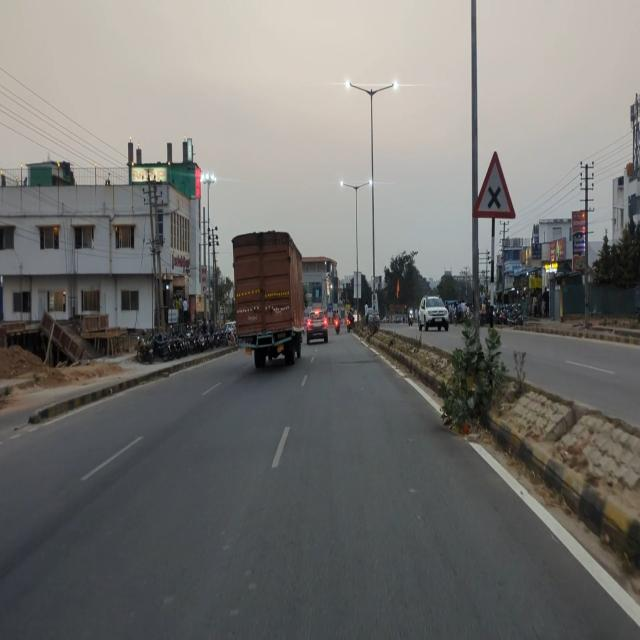bien_cam: (472, 148, 516, 221)
